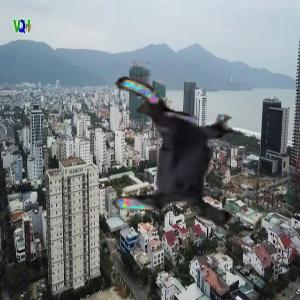drone: (93, 74, 260, 241)
